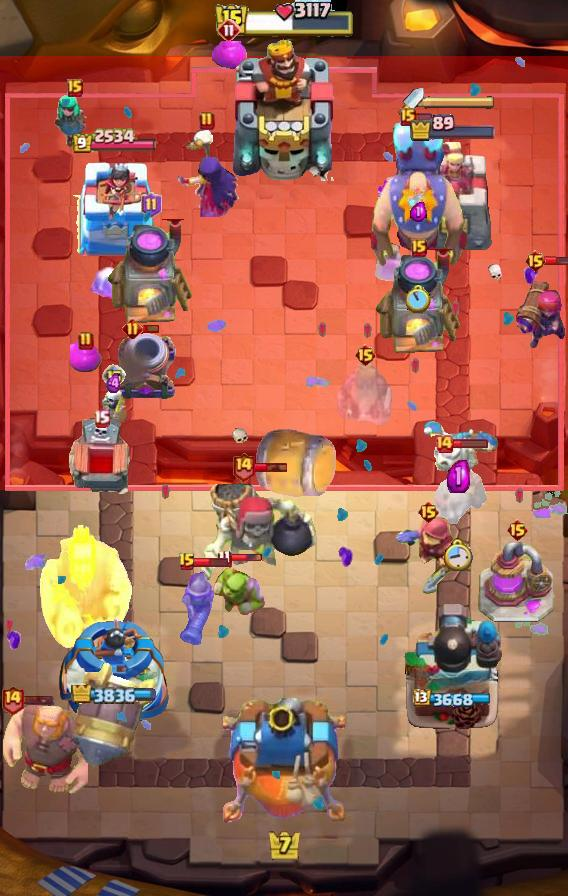axe: (175, 129, 239, 217)
balloon: (0, 700, 88, 798)
bar: (412, 140, 494, 256)
bomb-tower: (178, 561, 220, 649)
clock: (213, 0, 355, 40)
dirt: (253, 427, 337, 501)
electro-giant: (197, 468, 319, 584)
electro-spirit: (446, 460, 469, 492), (409, 201, 426, 223), (106, 373, 122, 394)
elite-barbarian: (428, 449, 488, 525)
elixir: (443, 538, 473, 571), (405, 285, 430, 313)
elixir-golem-mid: (66, 417, 136, 503)
emote: (17, 694, 54, 706), (253, 461, 289, 473), (194, 556, 229, 568), (452, 439, 489, 450), (229, 553, 263, 563), (544, 255, 568, 266), (140, 322, 160, 333), (414, 112, 434, 122)
fireball: (394, 513, 462, 597)
flying-machine: (209, 563, 269, 619)
giant-skeleton: (37, 523, 133, 651)
goblin-cage: (115, 332, 179, 402)
heal-spirit: (101, 386, 127, 422)
hunter: (106, 219, 196, 327), (374, 249, 464, 357)
king-tower: (228, 35, 340, 181), (223, 698, 345, 826)
king-tower-bar: (424, 95, 496, 109)
knight-evolution: (374, 243, 403, 282)
little-prince: (366, 121, 470, 269)
mega-minion: (514, 264, 568, 352)
miner: (211, 41, 247, 71), (70, 342, 102, 372)
mini-pekka: (420, 418, 500, 478)
mirror: (85, 267, 135, 305)
mortar-evolution: (336, 360, 394, 428)
pekka: (478, 542, 556, 624)
queen-tower: (54, 614, 173, 730), (69, 158, 159, 256)
selected: (409, 114, 497, 142), (71, 128, 157, 155), (71, 685, 157, 704), (413, 689, 493, 709)
text: (231, 450, 256, 481), (0, 685, 24, 715), (217, 18, 241, 42), (102, 364, 126, 388), (525, 249, 548, 273), (354, 343, 377, 367), (416, 500, 439, 524), (507, 518, 530, 542), (142, 192, 163, 218), (121, 317, 142, 338), (434, 434, 454, 454), (178, 552, 196, 572), (199, 111, 215, 131), (78, 331, 94, 351), (93, 409, 110, 427), (67, 79, 83, 97), (400, 108, 416, 126), (411, 239, 427, 257), (217, 549, 231, 567)
tower-bar: (403, 601, 503, 731)
witch: (51, 93, 99, 151)
x-bow: (72, 660, 156, 768)
